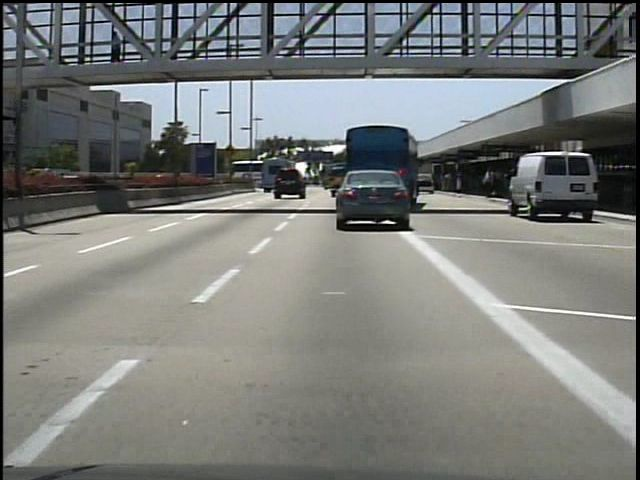person: (108, 27, 129, 75), (483, 164, 498, 198)
